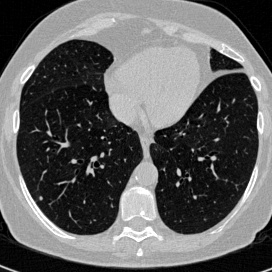PN: (39, 196, 43, 200)
